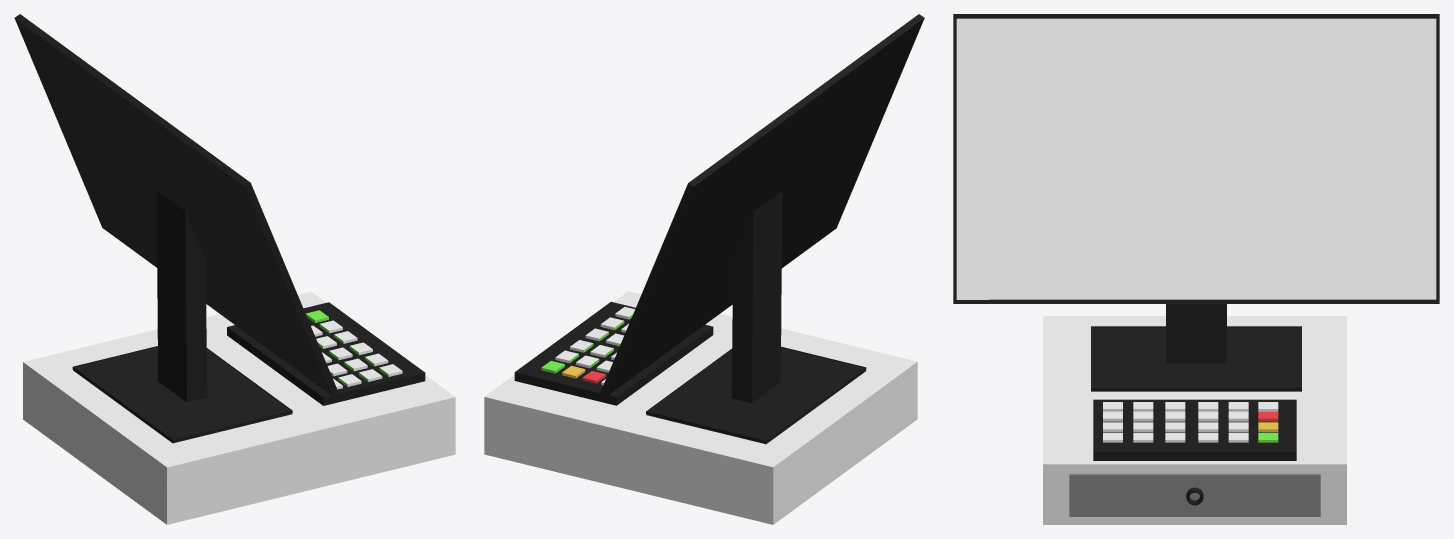
Rendered from pos_model.fbx.
The picture shows the model from 3 angles, left to right: view 1: azimuth 30°, elevation 25°; view 2: azimuth 150°, elevation 25°; view 3: azimuth 270°, elevation 25°; orthographic projection. The views are drawn at different scales.
Parts seen in each view (by area): view 1: Box001, Cube.002, keyboard; view 2: Box001, Cube.002, keyboard; view 3: Group001, Cube.002, Box001, keyboard, Cube.003.
Part boxes in pixels (x1,y1,x2,y2): Box001: (14,14,338,443); Cube.002: (23,291,455,524); keyboard: (227,302,425,405); Box001: (600,14,924,444); Cube.002: (484,291,917,524); keyboard: (514,301,713,405); Group001: (956,18,1436,299); Cube.002: (1043,316,1346,524); Box001: (953,14,1439,391); keyboard: (1093,399,1296,460); Cube.003: (1069,473,1320,516).
Bounding box in the file's own units: 351 × 416 × 478.
